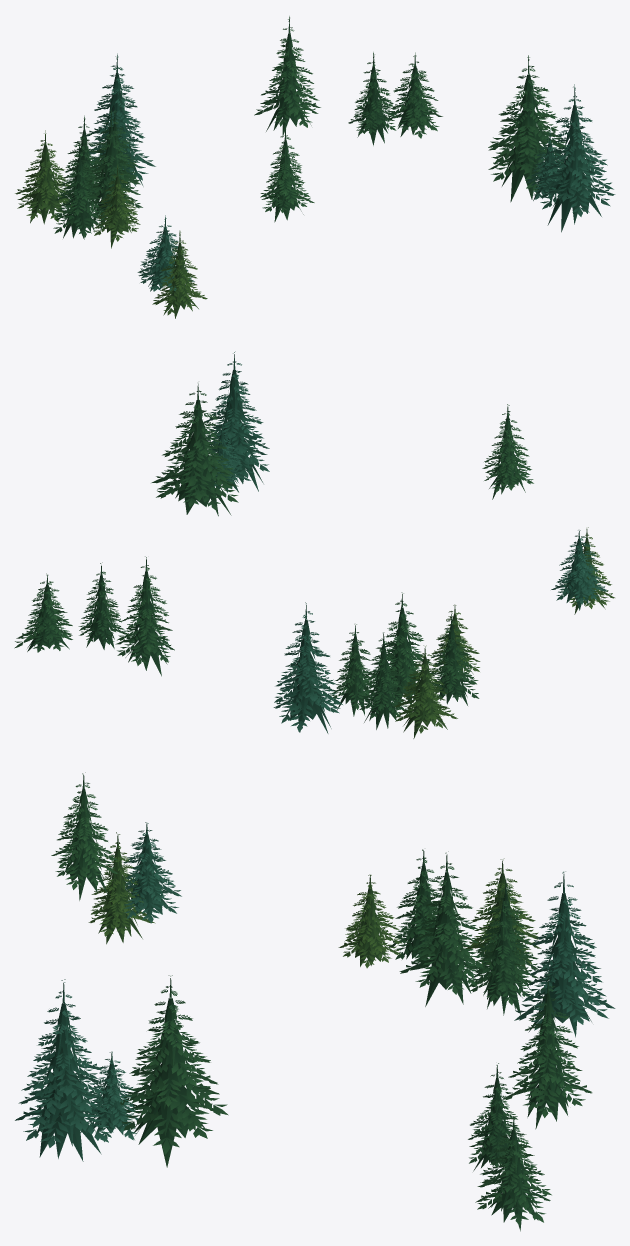
The picture shows the model from 3 angles, top to bottom: view 1: azimuth 30°, elevation 25°; view 2: azimuth 150°, elevation 25°; view 3: azimuth 270°, elevation 25°; orthographic projection. The views are drawn at different scales.
Visible parts, largest first — view 1: pn_18; view 2: pn_18; view 3: pn_18.
Part boxes in pixels (box(x1,y1,x2,y2)): pn_18: box(15, 16, 615, 318); pn_18: box(14, 351, 614, 738); pn_18: box(15, 772, 615, 1231).
Size of the model in its own units: 56.73 by 24.89 by 51.38.
1 material, 1 textured.
